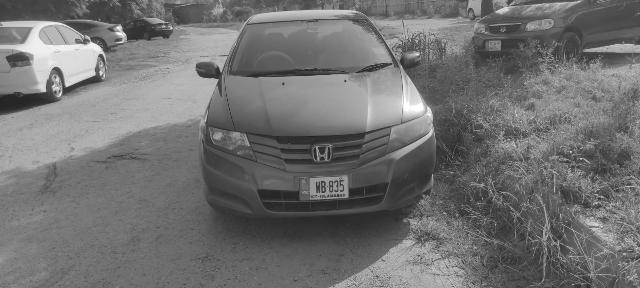Number: (314, 179, 345, 193)
